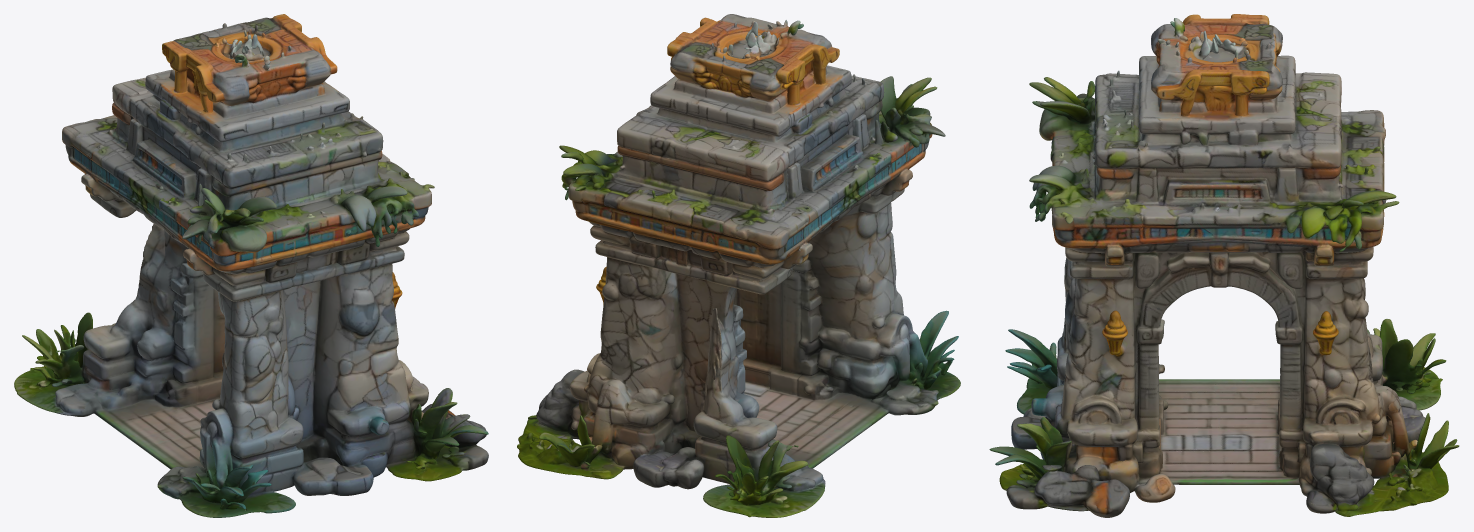
Rendered from temple-gate.glb.
The picture shows the model from 3 angles, left to right: view 1: azimuth 30°, elevation 25°; view 2: azimuth 150°, elevation 25°; view 3: azimuth 270°, elevation 25°; orthographic projection. The views are drawn at different scales.
Parts seen in each view (by area): view 1: tripo_node_e6adb305-060f-4242-892f-cb6255c94461; view 2: tripo_node_e6adb305-060f-4242-892f-cb6255c94461; view 3: tripo_node_e6adb305-060f-4242-892f-cb6255c94461.
Part boxes in pixels (<box>): tripo_node_e6adb305-060f-4242-892f-cb6255c94461: <box>14,14,488,517</box>; tripo_node_e6adb305-060f-4242-892f-cb6255c94461: <box>517,14,960,517</box>; tripo_node_e6adb305-060f-4242-892f-cb6255c94461: <box>989,14,1459,517</box>.
Size of the model in its own units: 0.7754 by 0.9703 by 1.
Materials: 1 (1 with a texture image).
